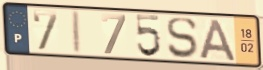5: (135, 12, 163, 59)
7: (31, 8, 60, 52), (100, 12, 128, 55)
A: (197, 17, 238, 63)
I: (71, 8, 84, 56)
S: (165, 16, 199, 60)
